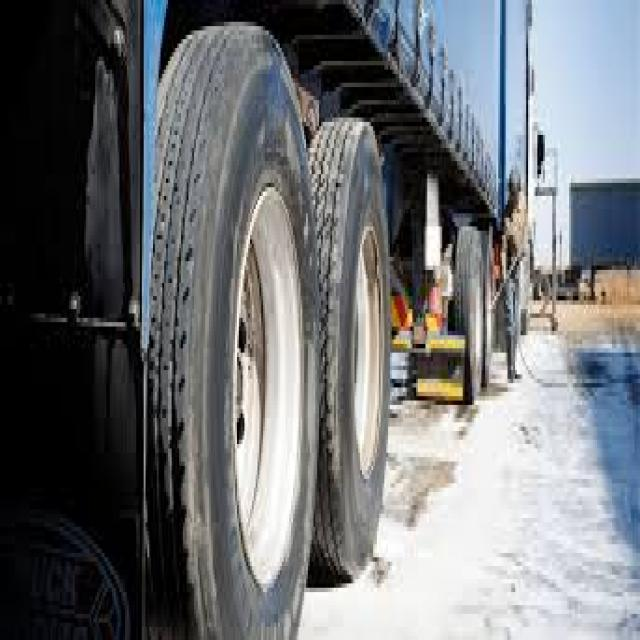Heavy Duty Truck: (48, 4, 506, 640)
